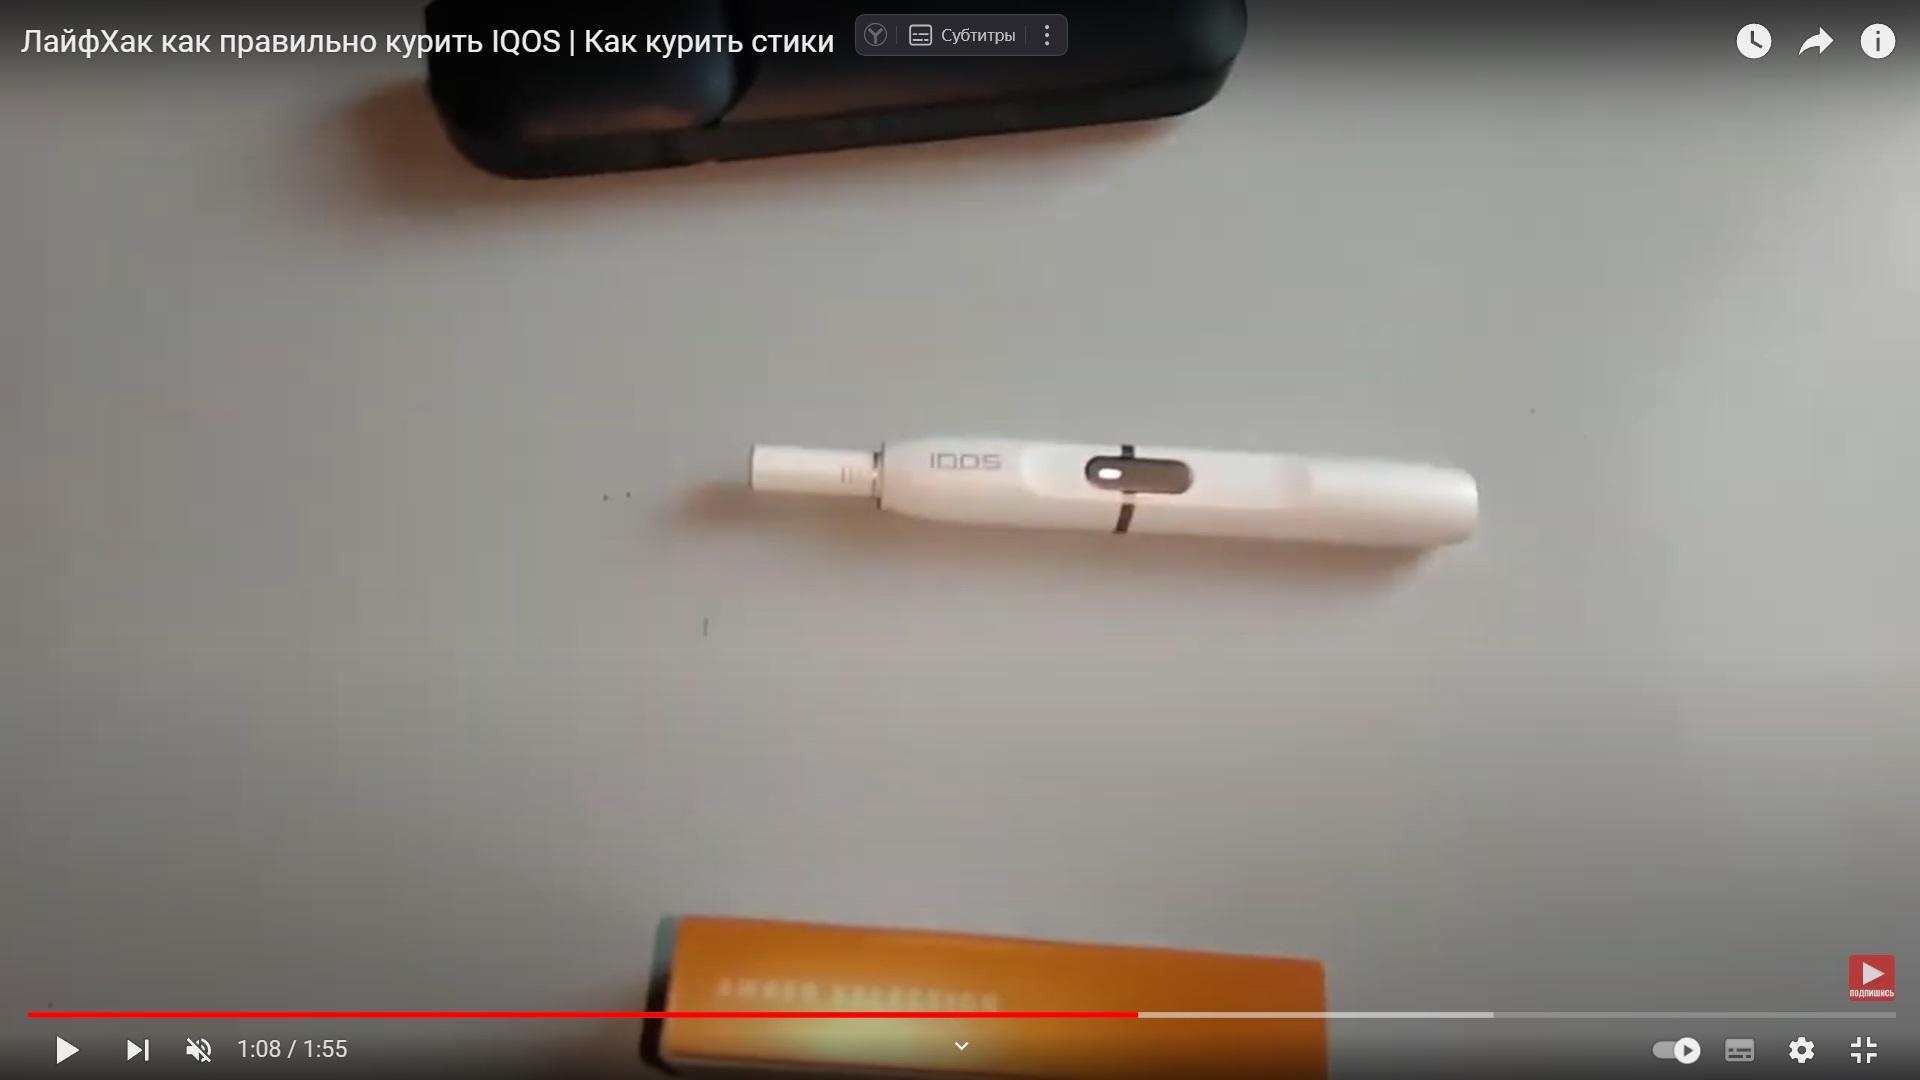iqos: (749, 438, 1478, 549)
